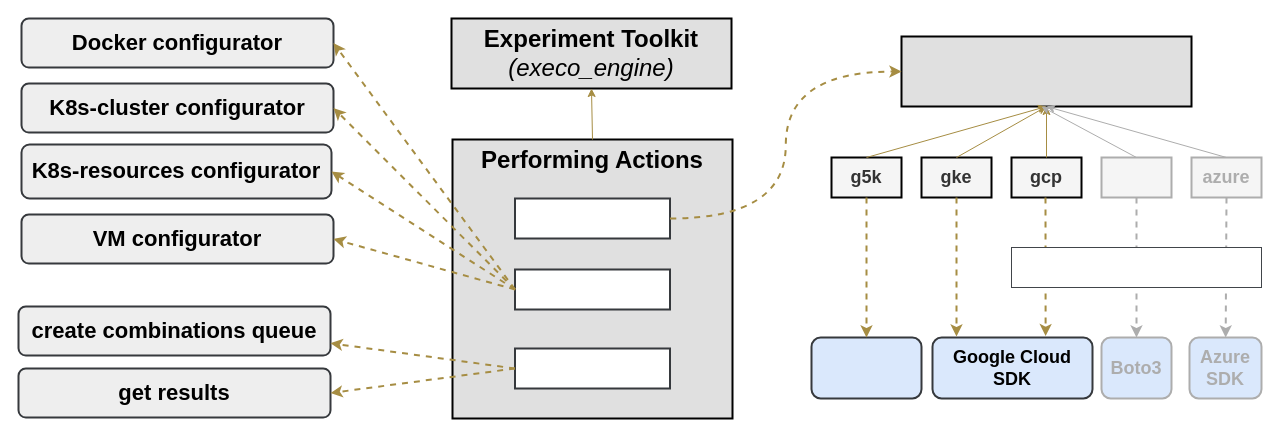
Some shapes in this 1279 by 436 pixel diagram are drawn without their labels. The shapes that lost their labels are listed below. From the top down, each one's centre as x and y in pixels, then its label:
At point 1046,71: "Cloud Provisioning".
At point 1136,177: "aws".
At point 592,218: "provisioner".
At point 1136,267: "libcloud".
At point 592,289: "configurator".
At point 592,368: "experimenter".
At point 866,367: "execo-g5k".
